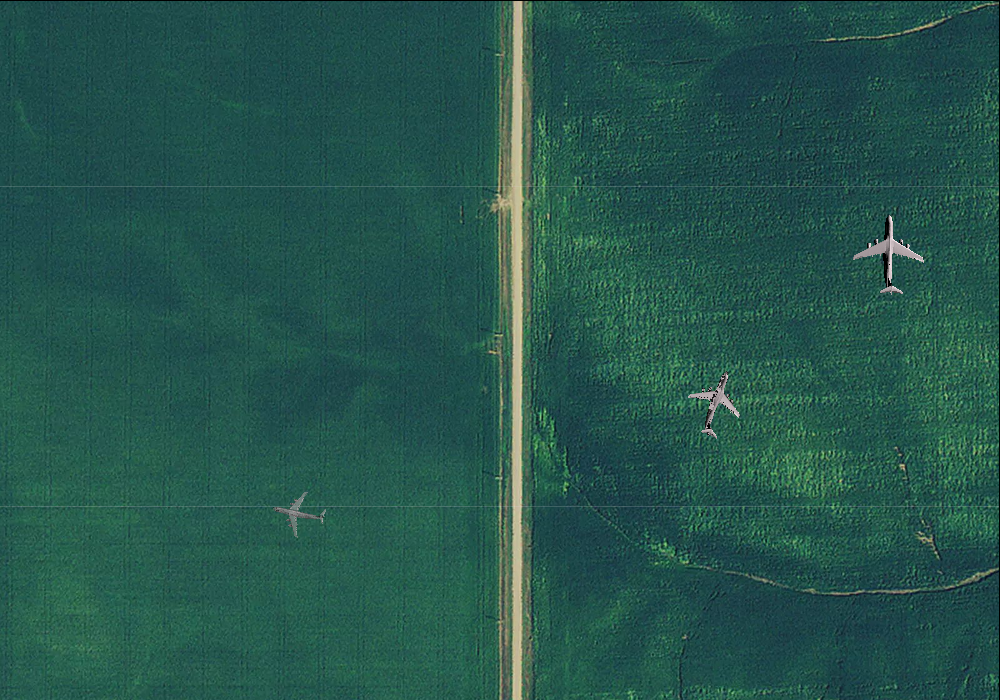plane: (675, 360, 759, 447), (850, 213, 930, 296), (267, 482, 330, 544)
